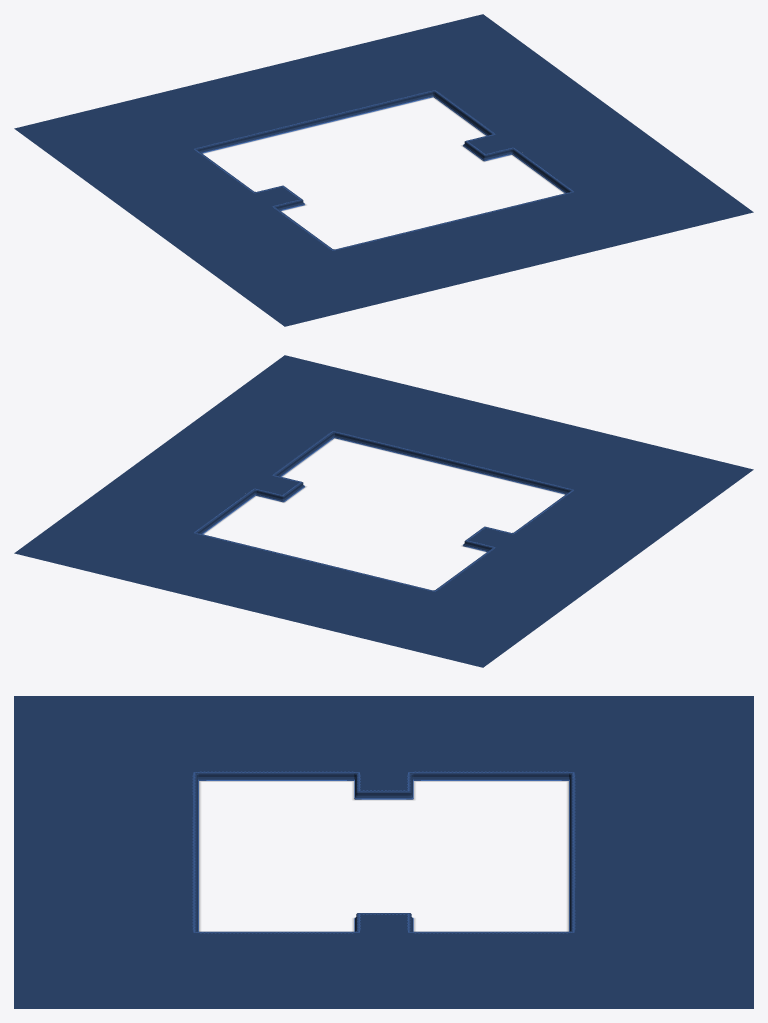
The model's file is arena.glb.
3 views of the same model, one above another, from view 1: azimuth 30°, elevation 25°; view 2: azimuth 150°, elevation 25°; view 3: azimuth 270°, elevation 25° (orthographic). The views are drawn at different scales.
Parts seen in each view (by area): view 1: slice_fill.004, slice_fill.003, slice_fill.005, slice_fill.006, slice_bot.012, slice_bot.002, slice_bot.011, slice_bot.013; view 2: slice_fill.003, slice_fill.004, slice_fill.005, slice_fill.006, slice_bot.013, slice_bot.002, slice_bot.011, slice_bot.012; view 3: slice_fill.003, slice_fill.004, slice_fill.005, slice_fill.006, slice_bot.009, slice_bot.010, slice_bot.012, slice_bot.013, slice_fill.001, slice_fill.002.
Boxes of the visible parts, left/top/right/bottom form: slice_fill.004: left=220, top=165, right=753, bottom=326; slice_fill.003: left=14, top=14, right=547, bottom=175; slice_fill.005: left=79, top=148, right=331, bottom=278; slice_fill.006: left=436, top=62, right=688, bottom=192; slice_bot.012: left=201, top=91, right=428, bottom=153; slice_bot.002: left=514, top=150, right=570, bottom=193; slice_bot.011: left=436, top=93, right=491, bottom=135; slice_bot.013: left=340, top=193, right=566, bottom=249; slice_fill.003: left=14, top=506, right=547, bottom=667; slice_fill.004: left=220, top=355, right=753, bottom=516; slice_fill.005: left=436, top=489, right=688, bottom=619; slice_fill.006: left=79, top=403, right=331, bottom=533; slice_bot.013: left=339, top=432, right=566, bottom=494; slice_bot.002: left=276, top=434, right=331, bottom=476; slice_bot.011: left=197, top=491, right=253, bottom=534; slice_bot.012: left=201, top=534, right=427, bottom=590; slice_fill.003: left=576, top=696, right=753, bottom=1008; slice_fill.004: left=14, top=696, right=191, bottom=1008; slice_fill.005: left=191, top=696, right=576, bottom=771; slice_fill.006: left=191, top=933, right=576, bottom=1008; slice_bot.009: left=421, top=771, right=561, bottom=781; slice_bot.010: left=206, top=771, right=346, bottom=781; slice_bot.012: left=568, top=777, right=576, bottom=931; slice_bot.013: left=191, top=777, right=199, bottom=931; slice_fill.001: left=361, top=915, right=406, bottom=933; slice_fill.002: left=361, top=771, right=406, bottom=789.
Bounding box in the file's own units: 200 × 2 × 200.
5 materials, 5 textured.
